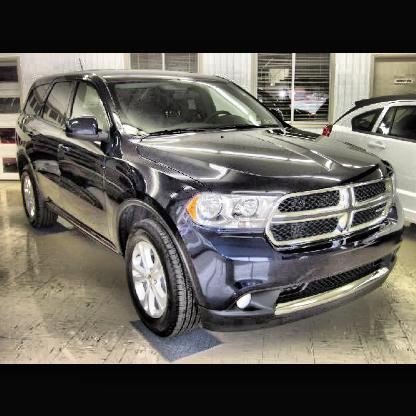Dodge Durango SUV 2012: (16, 59, 405, 342)
